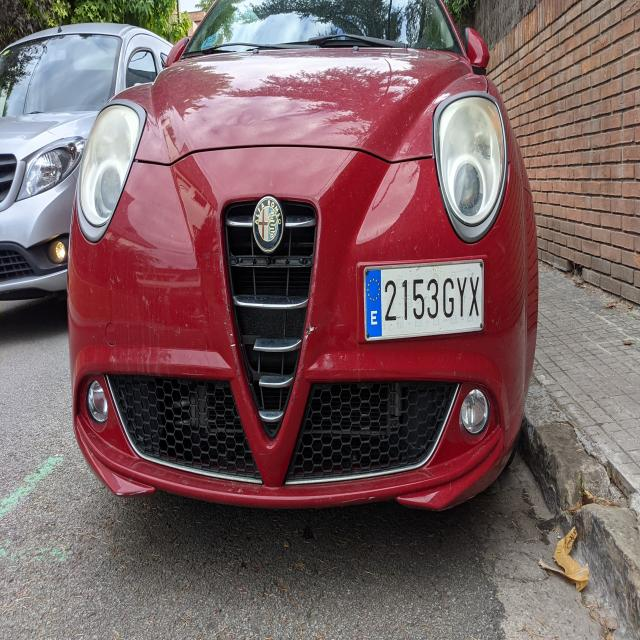license_plate-34Td: (364, 259, 484, 341)
